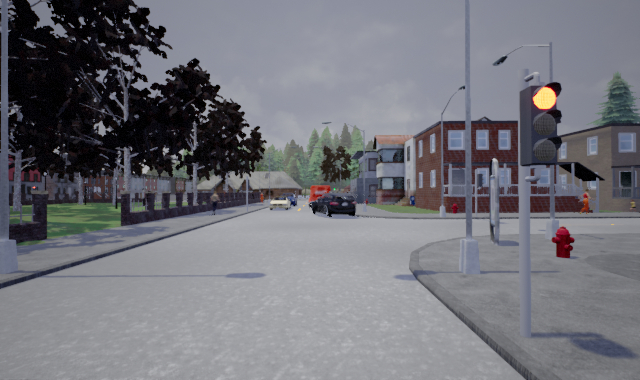pedestrian: (576, 187, 594, 214), (208, 190, 220, 215), (625, 198, 639, 214)
traffic_light: (520, 81, 562, 168)
vehicle: (308, 192, 360, 218), (308, 185, 332, 208), (271, 196, 290, 210)
